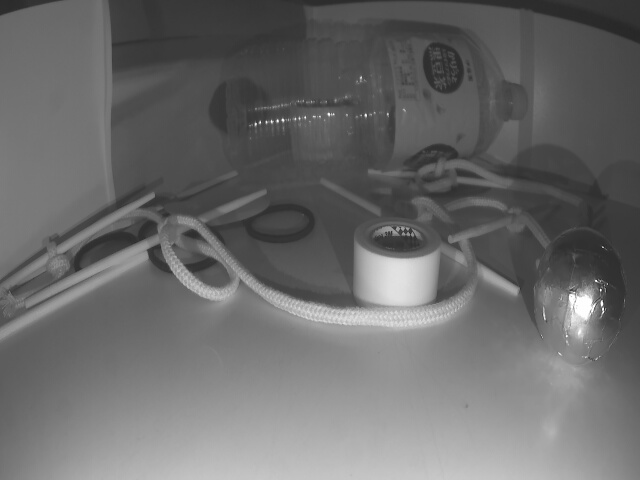Live: (532, 229, 628, 366)
